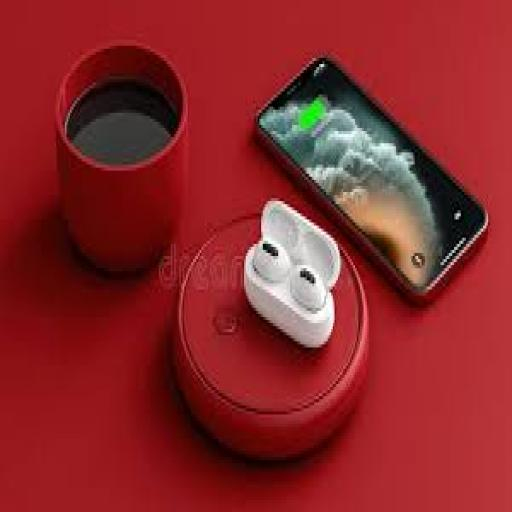phone: (258, 58, 488, 298)
red mug: (57, 43, 187, 271)
